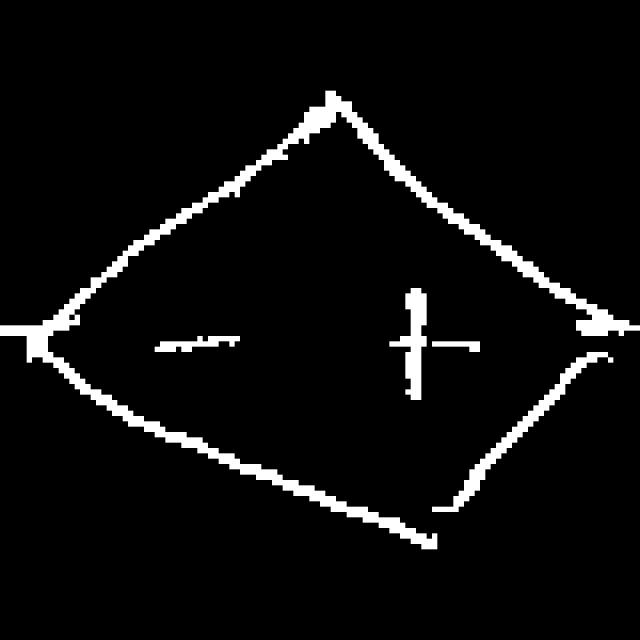dependant_voltage: (31, 90, 613, 552)
